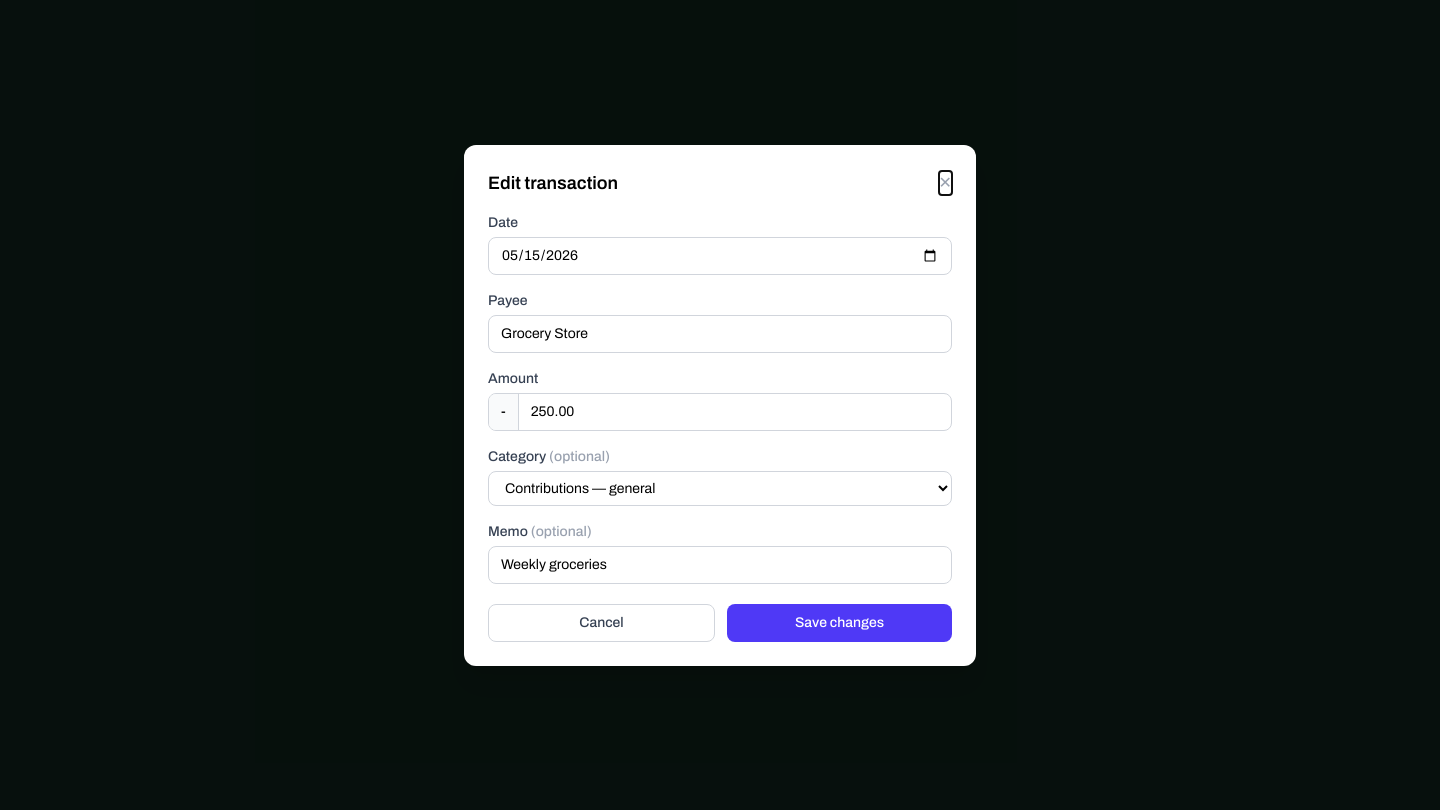
Test: EditTransactionModal › shows inline error for 403 response
Click the button "Save changes" at coordinates (840, 622), box [727, 604, 952, 642]
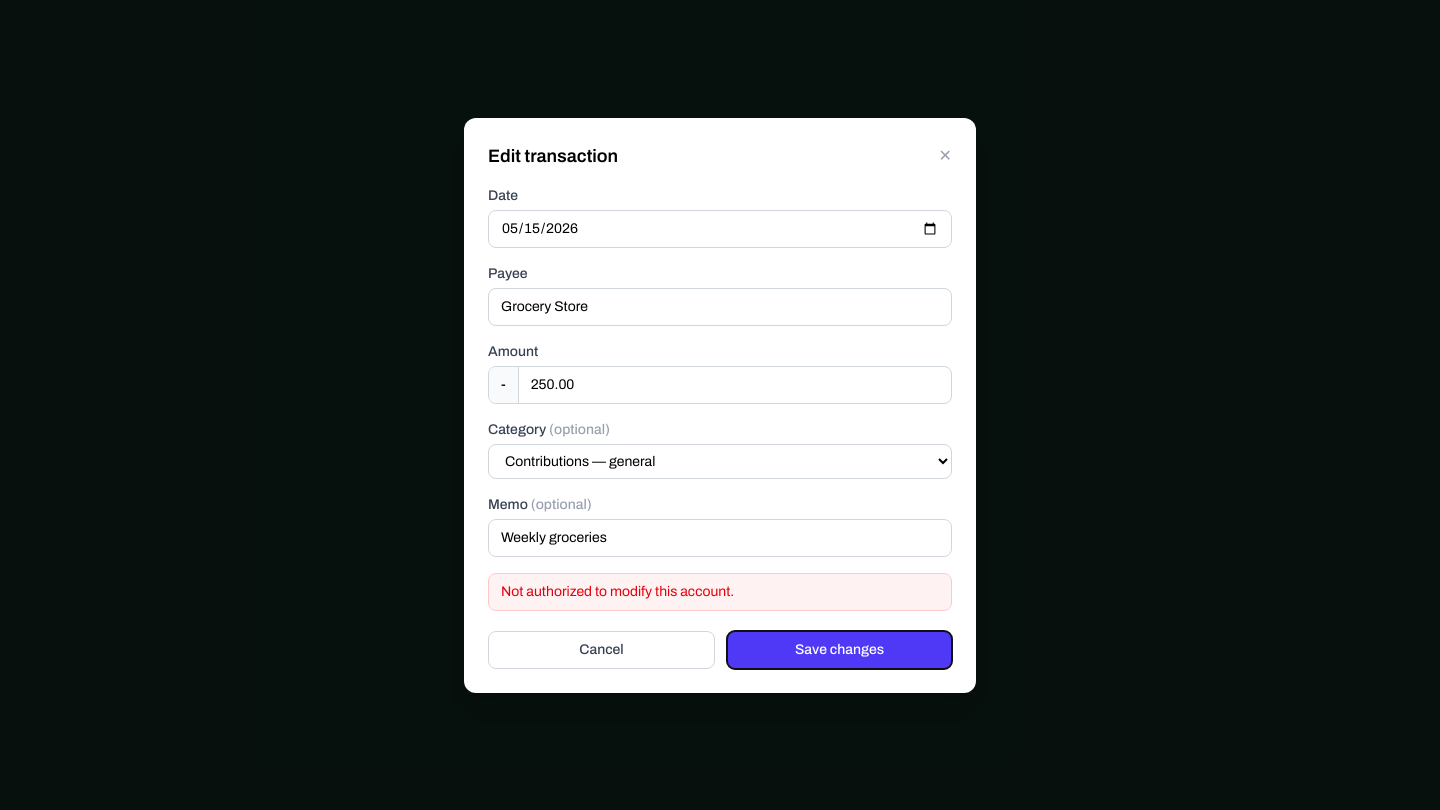
Expected: the text "Not authorized to modify this account." is shown, [488, 572, 952, 610]
